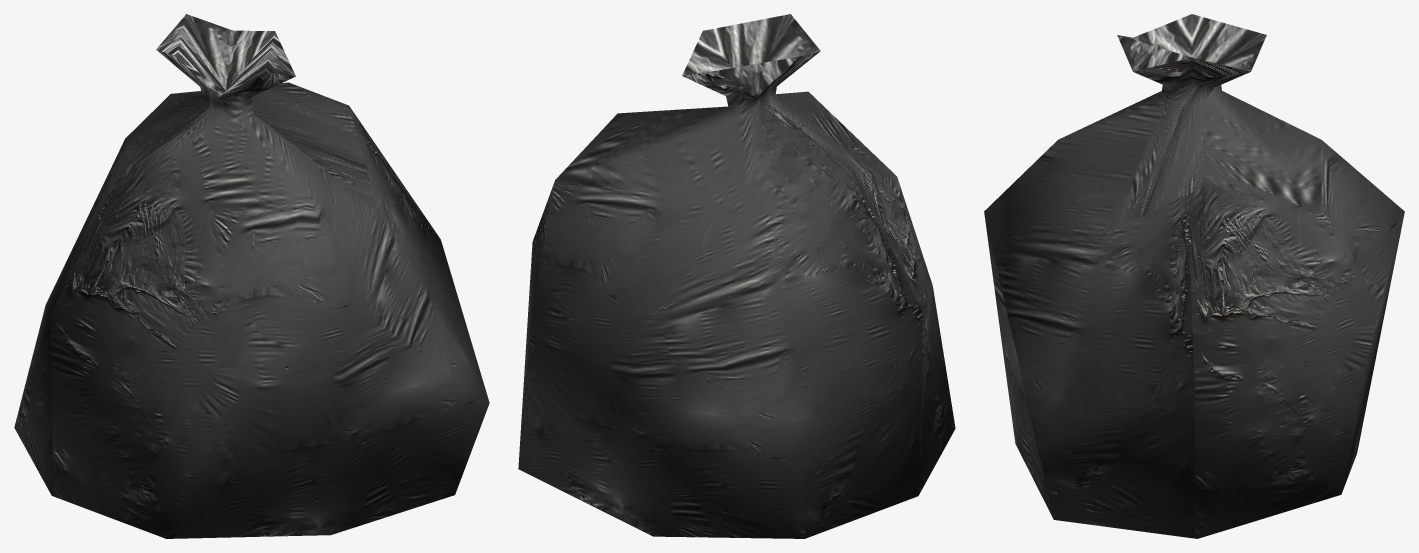
The model's file is garbagebag_2.fbx.
3 views of the same model, side by side, from view 1: azimuth 30°, elevation 25°; view 2: azimuth 150°, elevation 25°; view 3: azimuth 270°, elevation 25° (orthographic). The views are drawn at different scales.
Parts seen in each view (by area): view 1: garabage_bag; view 2: garabage_bag; view 3: garabage_bag.
Boxes of the visible parts, x1=… form: garabage_bag: x1=14, y1=14, x2=489, y2=538; garabage_bag: x1=518, y1=14, x2=955, y2=538; garabage_bag: x1=984, y1=14, x2=1404, y2=538.
Bounding box in the file's own units: 0.7326 × 0.7876 × 0.719.
